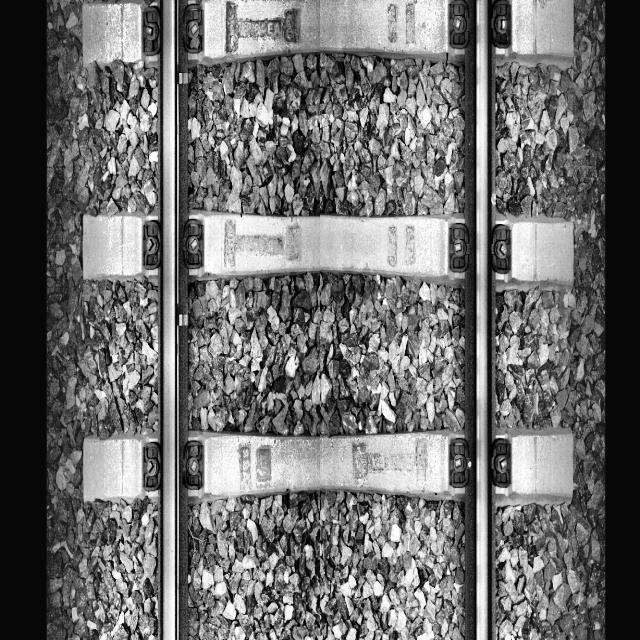Clips: (490, 221, 512, 275), (448, 222, 470, 274), (183, 219, 205, 270), (182, 440, 204, 490), (448, 0, 470, 50), (448, 438, 470, 488), (183, 5, 205, 53), (490, 440, 512, 488), (142, 219, 162, 271), (140, 5, 160, 57), (491, 0, 512, 49), (142, 442, 161, 492)
Sleepers: (82, 214, 574, 294), (80, 0, 575, 70), (82, 438, 574, 504)
